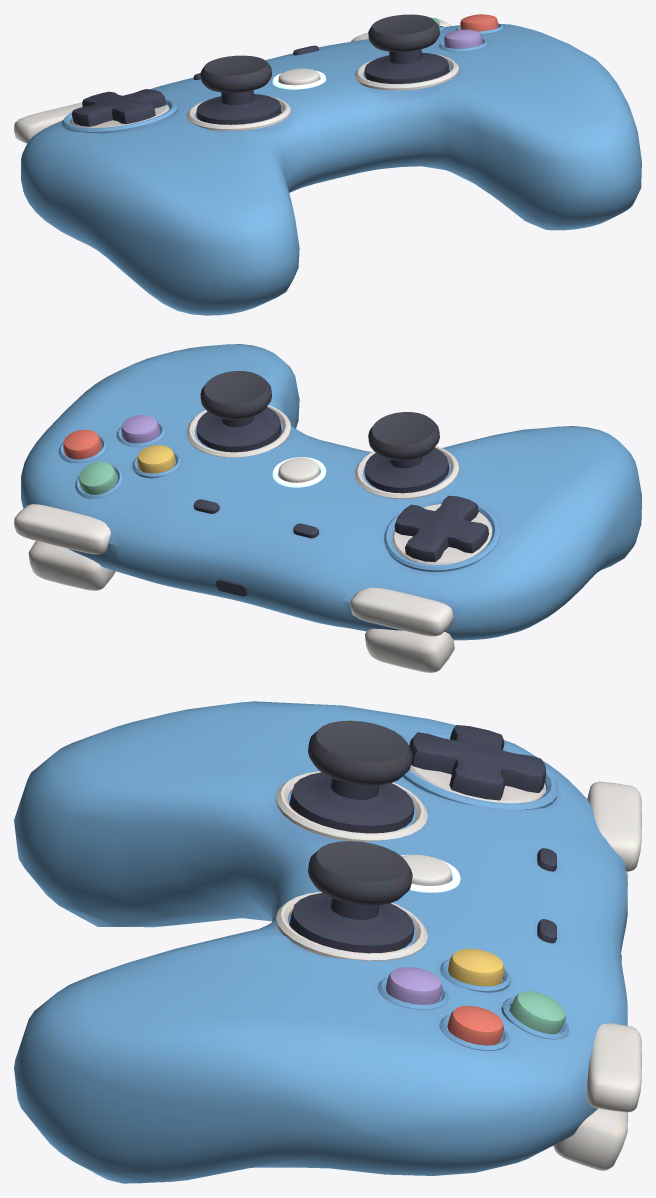
File: mando_consola.glb
3 renders of one model, top to bottom at view 1: azimuth 30°, elevation 25°; view 2: azimuth 150°, elevation 25°; view 3: azimuth 270°, elevation 25°, orthographic. The views are drawn at different scales.
Visible parts, largest first — view 1: game-controller_body; view 2: game-controller_body; view 3: game-controller_body.
Part boxes in pixels (bbox=[...]): game-controller_body: bbox=[14, 14, 641, 315]; game-controller_body: bbox=[14, 344, 641, 672]; game-controller_body: bbox=[14, 701, 641, 1183].
Bounding box in the file's own units: 0.1553 × 0.0449 × 0.1081.
Materials: 2 (1 with a texture image).
